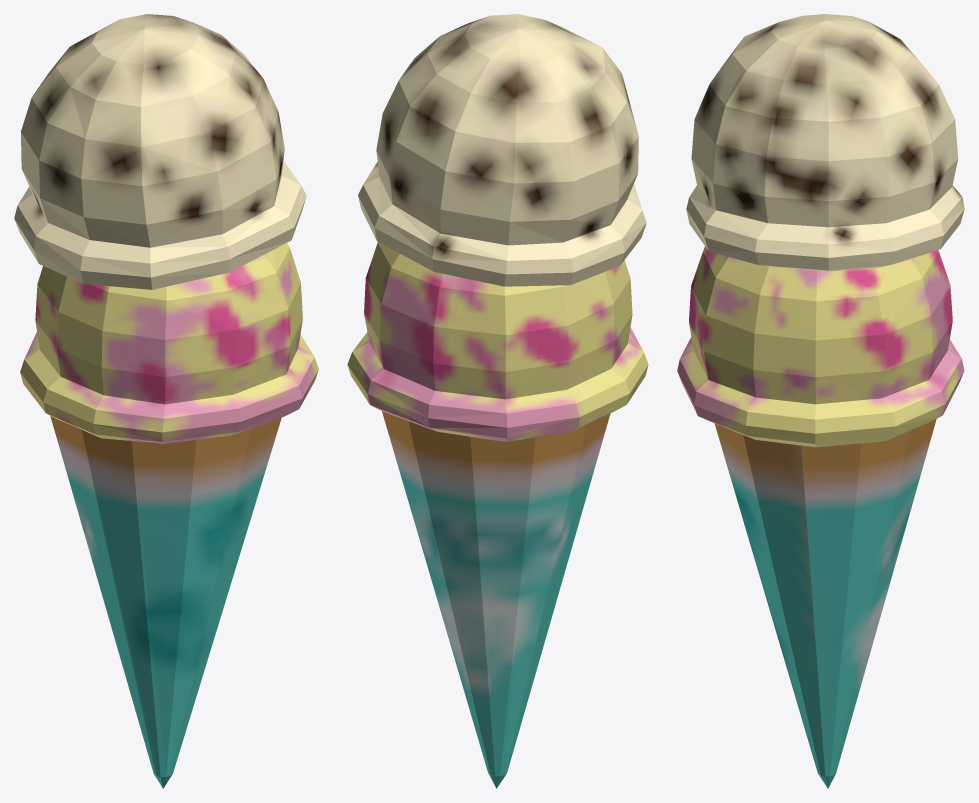
The model's file is ice_cream.glb.
The picture shows the model from 3 angles, left to right: view 1: azimuth 30°, elevation 25°; view 2: azimuth 150°, elevation 25°; view 3: azimuth 270°, elevation 25°; orthographic projection.
Parts seen in each view (by area): view 1: Object_2; view 2: Object_2; view 3: Object_2.
Part boxes in pixels (bbox=[...]): Object_2: bbox=[14, 14, 318, 788]; Object_2: bbox=[347, 14, 648, 788]; Object_2: bbox=[677, 14, 964, 788].
Bounding box in the file's own units: 0.0352 × 0.0991 × 0.034.
Materials: 1 (1 with a texture image).
